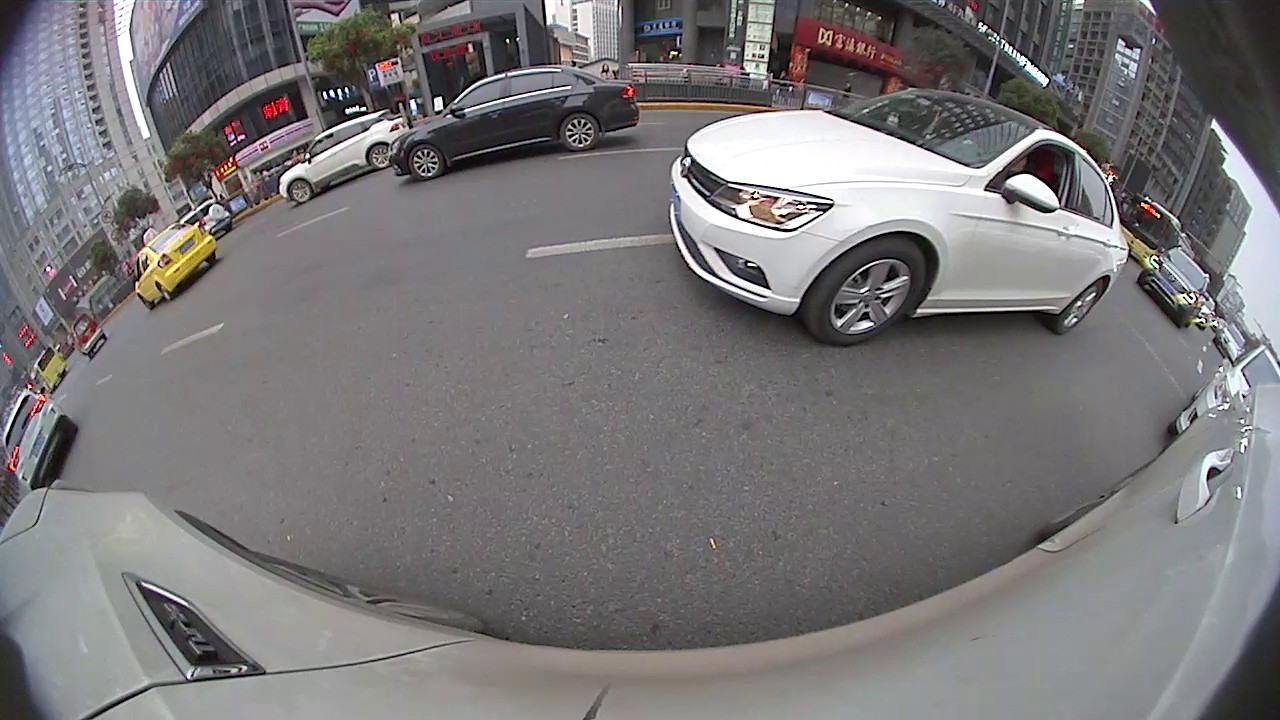car: (667, 86, 1127, 350), (388, 64, 643, 184), (276, 109, 406, 205), (1168, 341, 1279, 448), (130, 219, 220, 309), (1, 386, 79, 488), (1136, 243, 1210, 331)
front: (805, 237, 924, 349), (408, 144, 443, 178), (286, 177, 315, 206)
rear: (1046, 275, 1105, 337), (559, 113, 602, 153), (366, 142, 394, 172), (157, 283, 176, 306)
